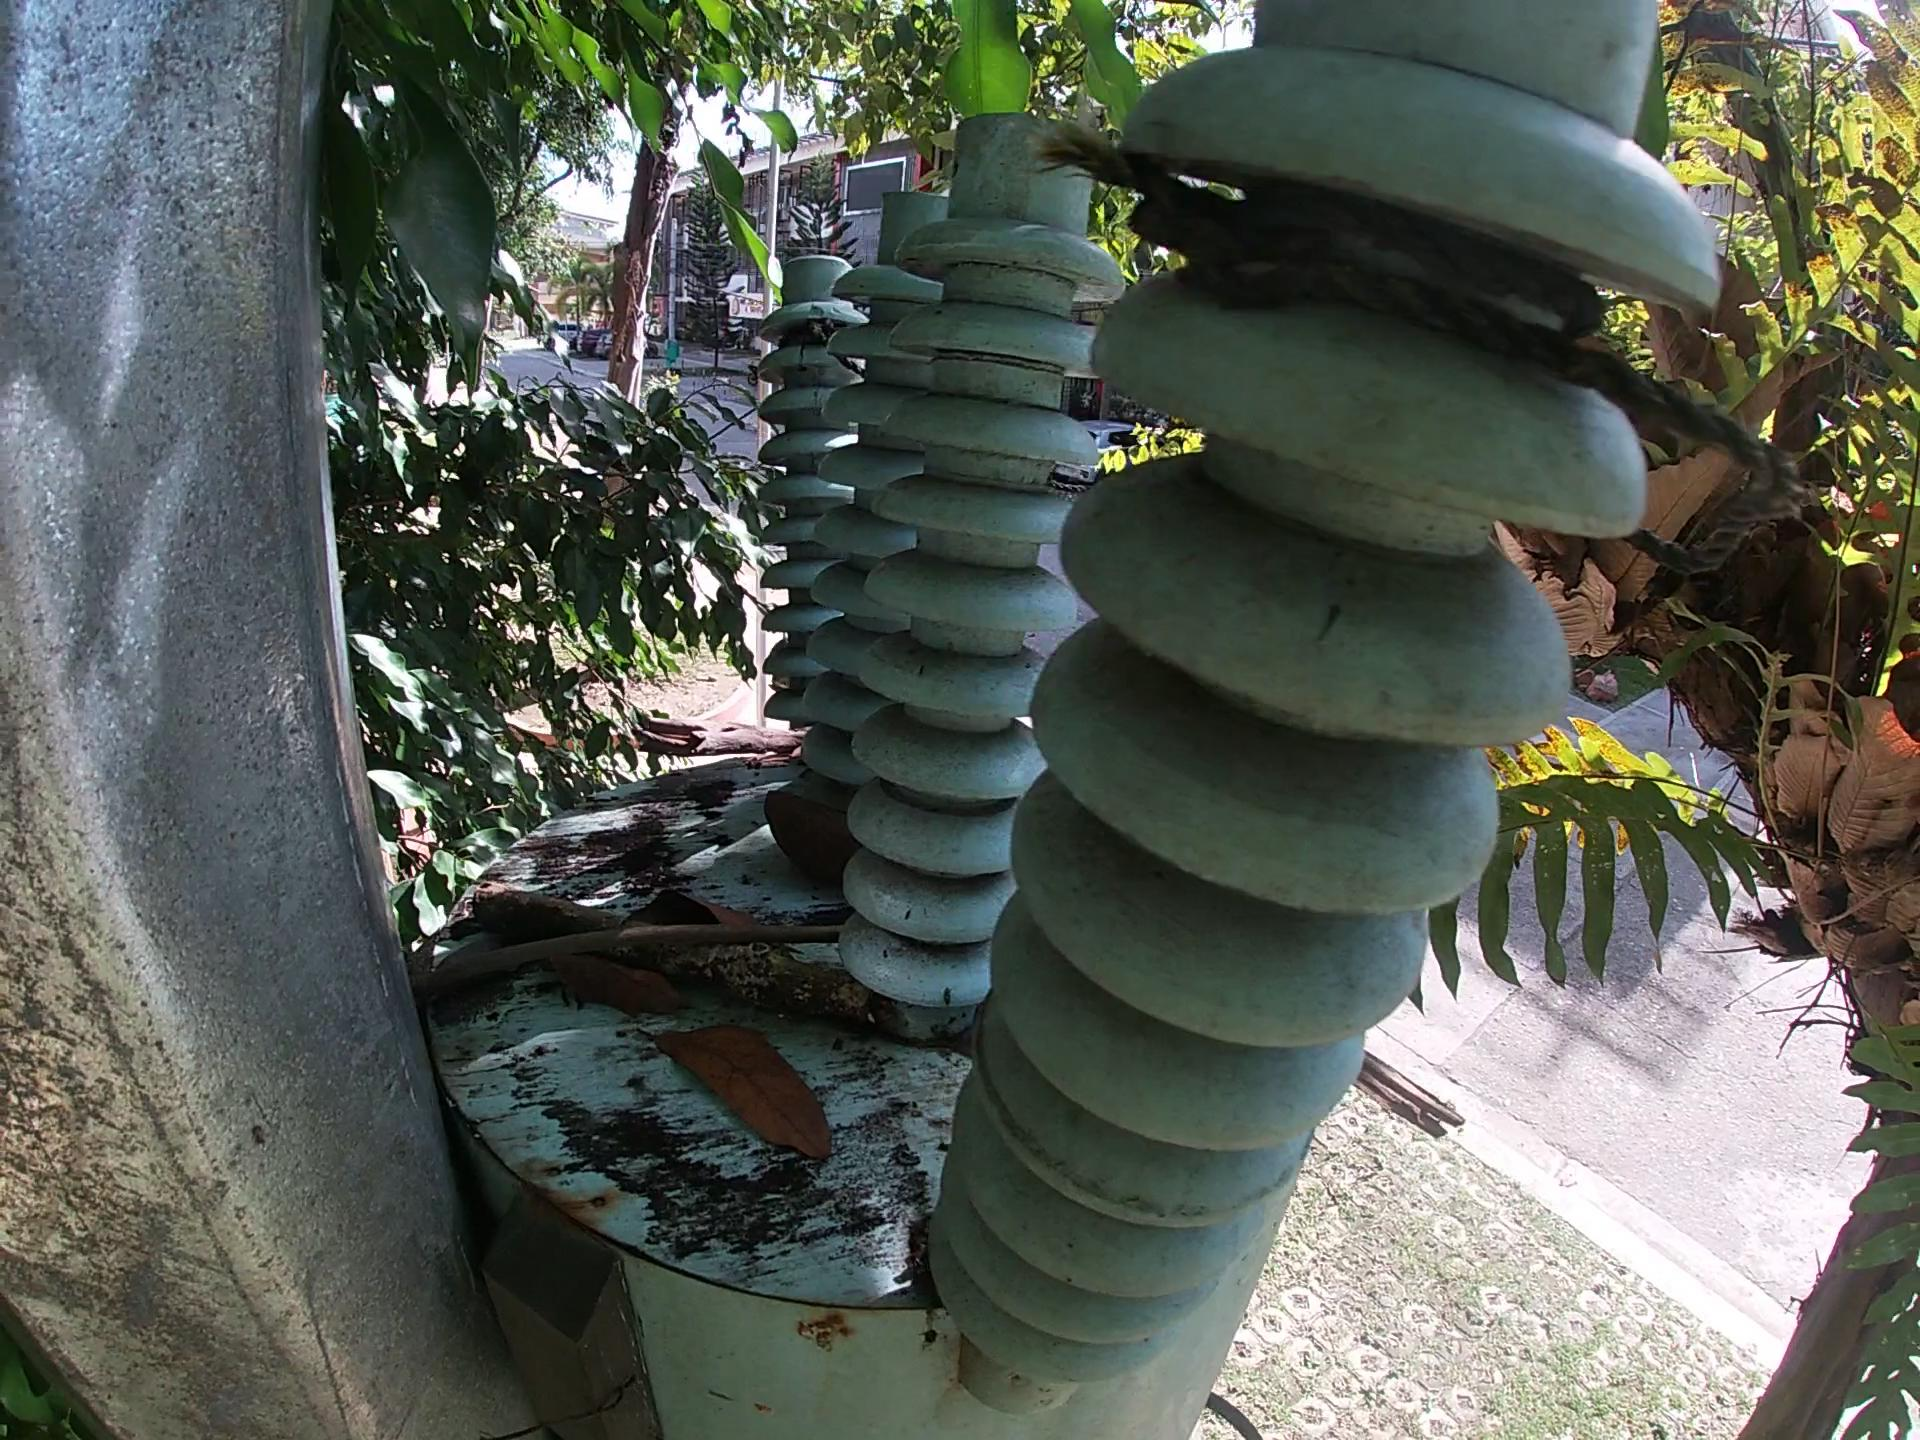leaf: (626, 1019, 841, 1148), (626, 880, 766, 933), (423, 979, 534, 1021), (553, 976, 691, 1007)
mahogany fruit: (745, 782, 850, 895)
tree branch: (451, 873, 875, 1029), (416, 923, 841, 1009), (609, 690, 791, 770), (1368, 1053, 1454, 1150)
